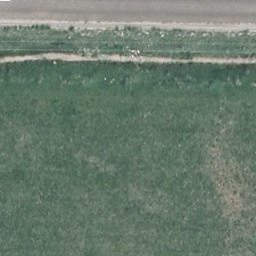car: (0, 0, 14, 2)
